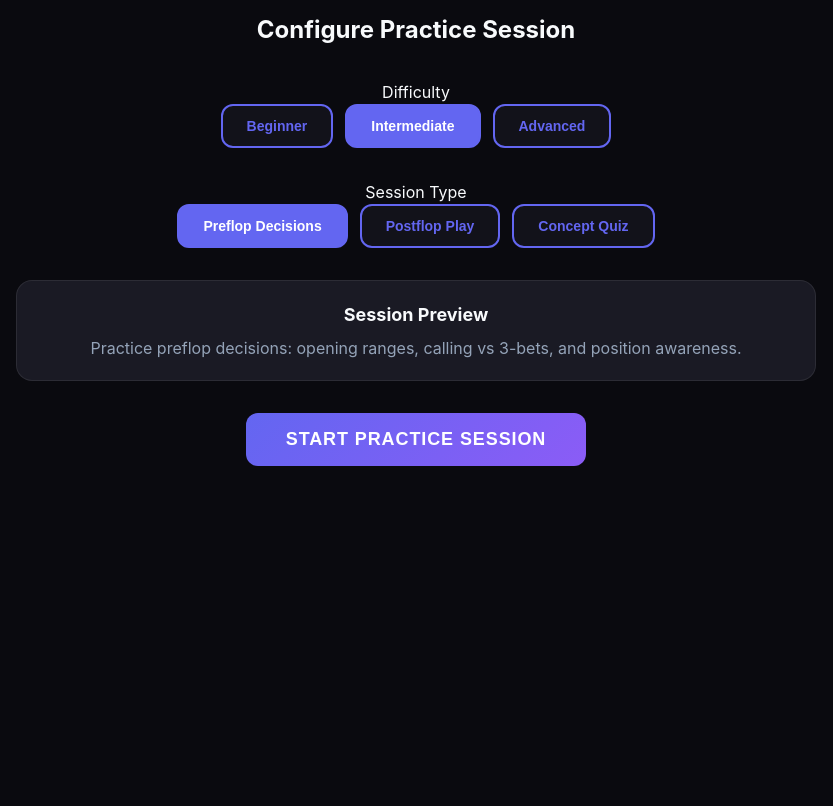
Test: PracticeSession › Active Session — Preflop Scenario › should update stats on correct answer
The width and height of the screenshot is (833, 806).
What coordinates should you click on to do the following:
click the button "Start Practice Session"
I would click on:
 (416, 440)
Its box is [246, 413, 586, 466].
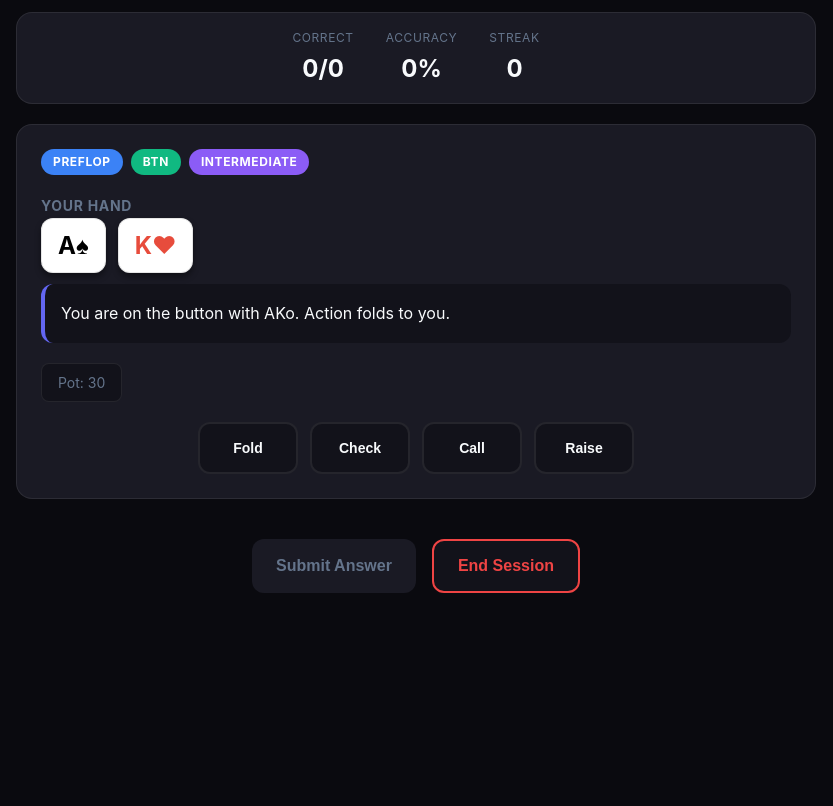
What coordinates should you click on to do the following:
click the button "Raise"
I would click on:
 (584, 448)
Its box is [534, 422, 634, 474].
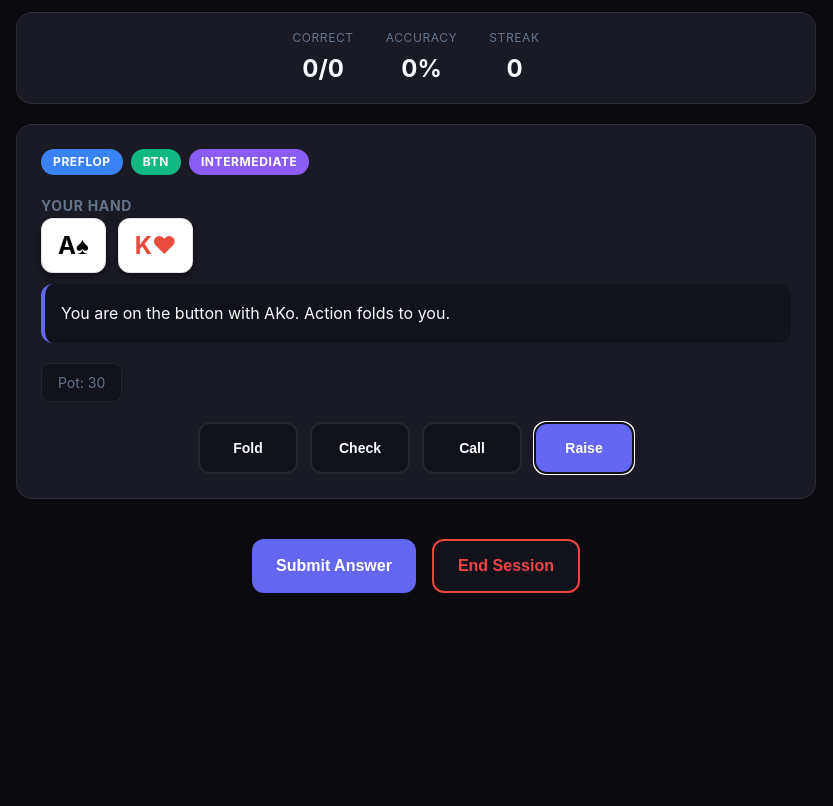
What coordinates should you click on to do the following:
click the button "Submit Answer"
I would click on:
 (334, 566)
Its box is [252, 539, 416, 593].
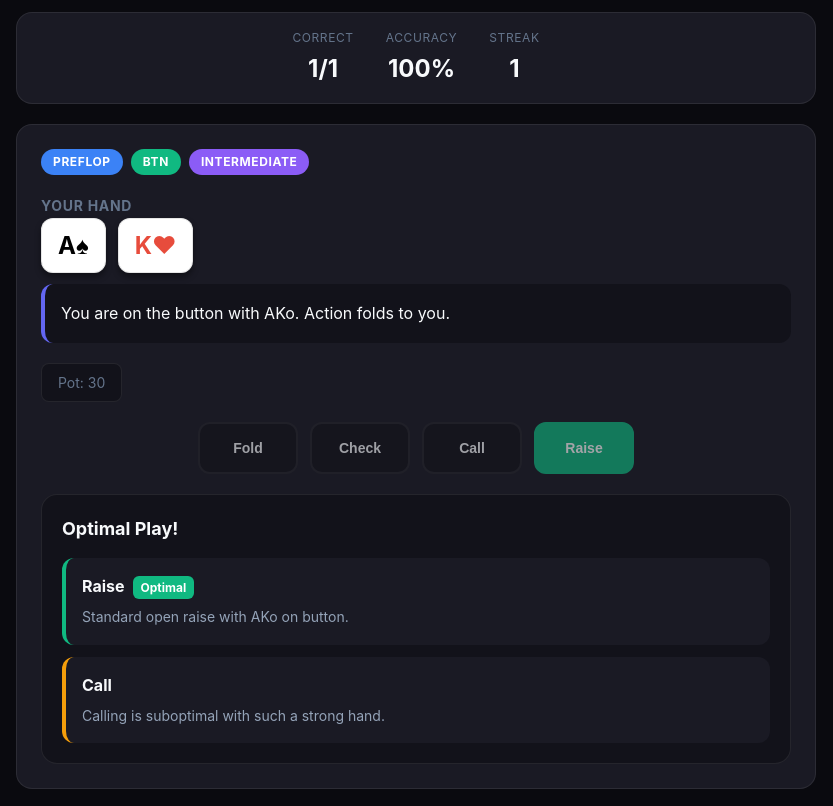
Now the text "1/1" is shown, box [308, 54, 338, 83]
Now the text "100%" is shown, box [388, 54, 455, 83]
